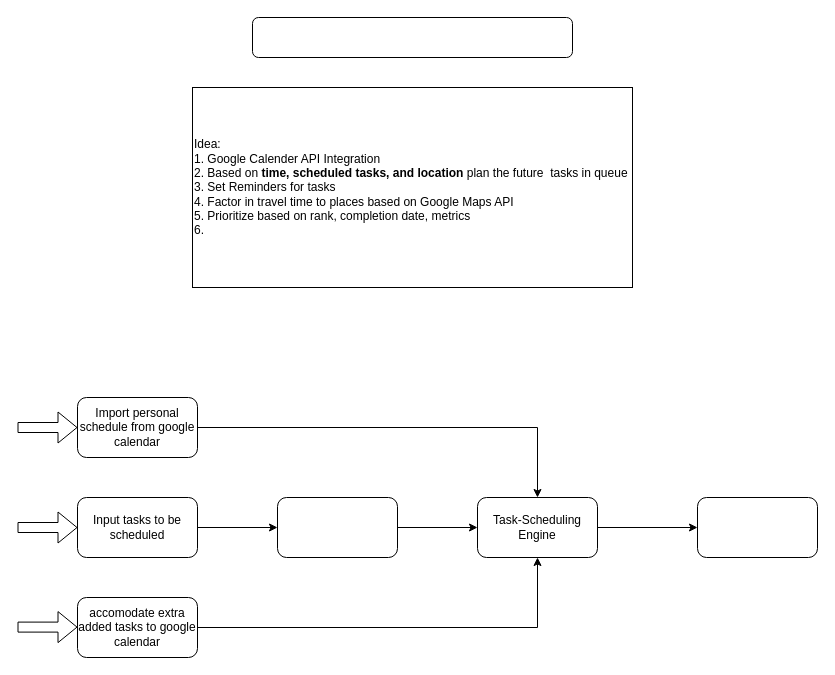
This 835x675 diagram has some shape labels left out. Each missing label, with the centre of its shape:
"Add tasks to priority queue" goes at point (337, 527).
"Dynamic Updation and re-prioritization of tasks, resolve conflict" goes at point (757, 527).
"Procative - Intelligent Productivity System" goes at point (412, 37).
